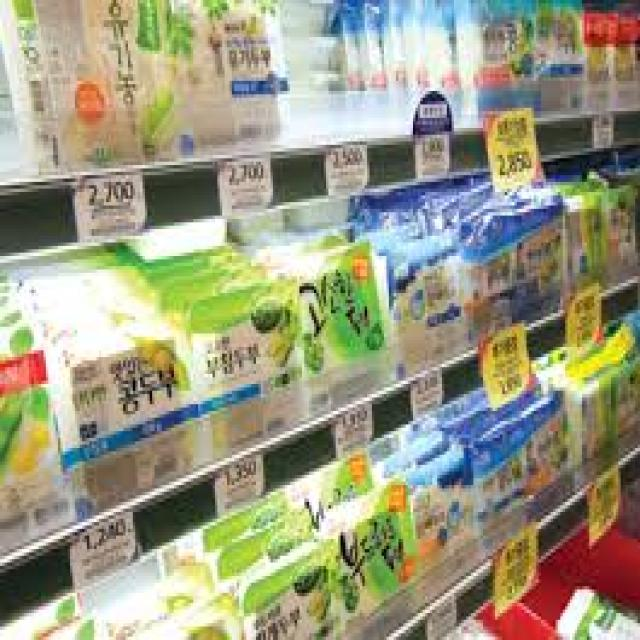tofu: (64, 312, 191, 494), (295, 247, 389, 393), (320, 502, 417, 632), (391, 232, 475, 378)
